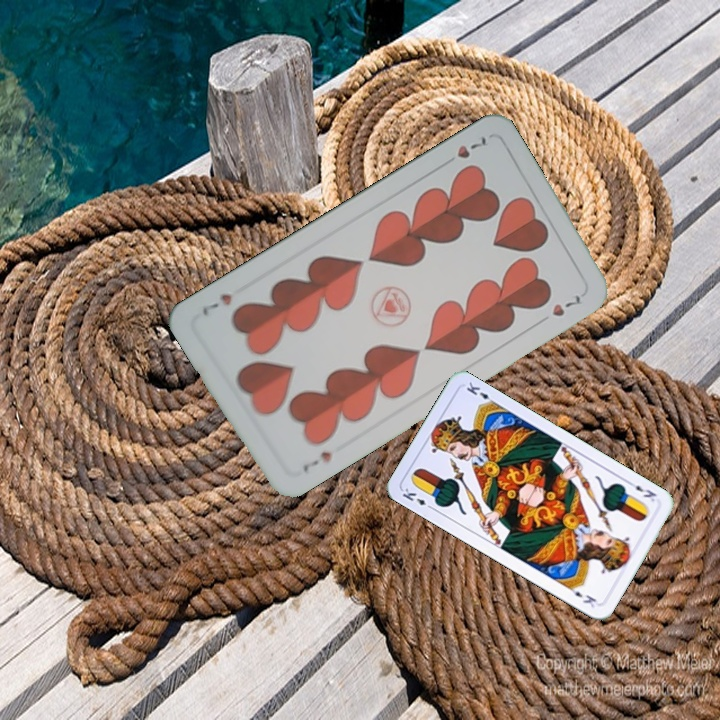EK: (398, 484, 436, 512), (624, 477, 659, 504)
H7: (438, 132, 491, 169), (299, 447, 334, 475)
